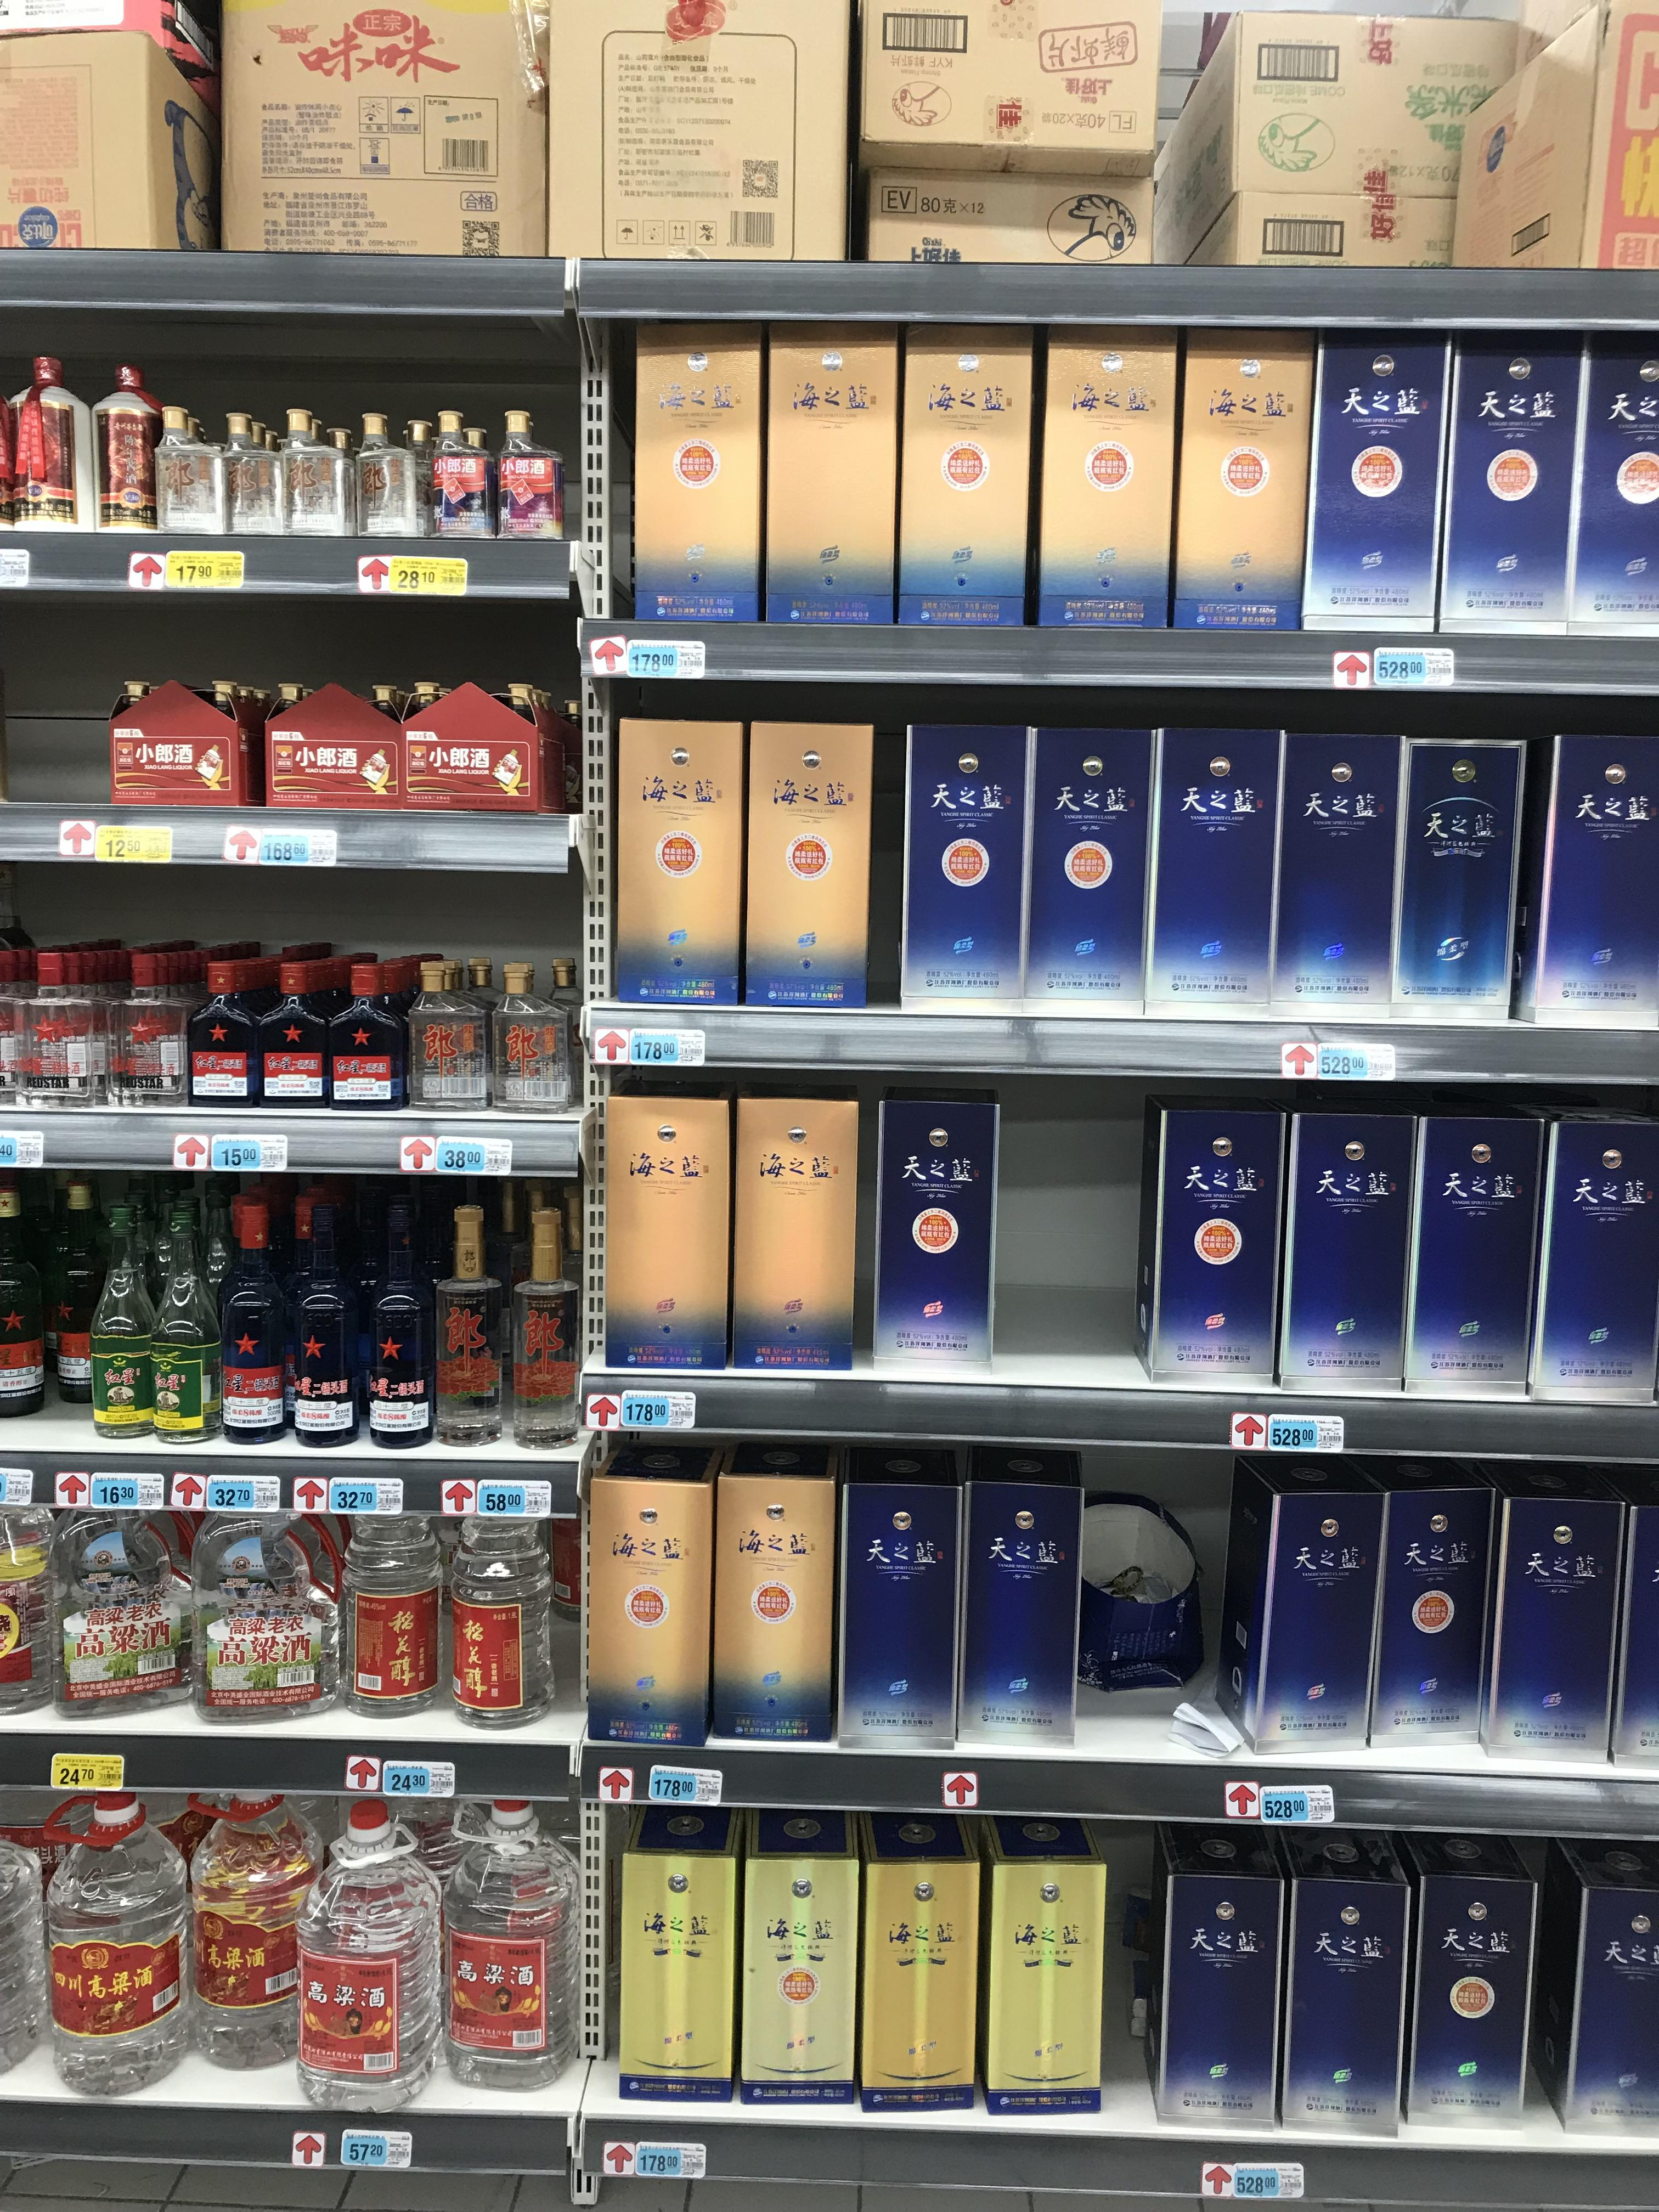bag: (1304, 327, 1446, 629), (894, 712, 1028, 1010), (1565, 331, 1657, 624), (403, 681, 561, 815)
bottle: (1394, 1829, 1558, 2127), (1229, 1447, 1377, 1749), (300, 1799, 439, 2113), (1492, 1456, 1628, 1770), (1364, 1439, 1495, 1752), (1277, 1825, 1412, 2130), (1281, 1090, 1417, 1388), (833, 1428, 958, 1745), (444, 1796, 577, 2095), (711, 1421, 835, 1742), (1150, 1829, 1283, 2127), (981, 1815, 1108, 2118), (960, 1423, 1084, 1733), (613, 1803, 739, 2097), (861, 1810, 979, 2113), (1546, 1834, 1657, 2127), (1068, 1486, 1208, 1710), (329, 1514, 448, 1716), (82, 1181, 173, 1439), (443, 1514, 551, 1728), (146, 1188, 232, 1447), (286, 1190, 366, 1453), (213, 1195, 293, 1451), (361, 1188, 436, 1453), (427, 1209, 502, 1449), (44, 1177, 120, 1409), (509, 1211, 580, 1451), (106, 951, 195, 1104), (16, 352, 87, 533), (192, 956, 275, 1108), (410, 961, 488, 1116), (94, 371, 164, 535), (265, 954, 338, 1109), (495, 967, 572, 1111), (31, 961, 108, 1104), (331, 960, 403, 1113), (497, 413, 561, 547), (430, 415, 488, 540), (350, 416, 410, 533), (373, 416, 425, 533)
box: (533, 26, 847, 263), (0, 0, 223, 265), (1030, 314, 1175, 634), (1169, 324, 1316, 629), (896, 310, 1033, 627), (1030, 718, 1171, 1021), (1438, 326, 1574, 637), (1140, 1089, 1276, 1397), (1523, 1099, 1659, 1406), (739, 712, 875, 1015), (608, 704, 737, 1021), (762, 317, 894, 625), (870, 1085, 1012, 1369), (1150, 719, 1288, 1014), (1401, 1092, 1534, 1395), (634, 317, 760, 632), (728, 1804, 859, 2102), (1396, 726, 1527, 1022), (599, 1083, 728, 1376), (1535, 730, 1659, 1031), (594, 1437, 713, 1750), (730, 1089, 857, 1371), (1286, 721, 1398, 1015), (261, 674, 410, 820), (110, 678, 242, 801)
bucket: (38, 1789, 195, 2097), (183, 1784, 322, 2067), (190, 1510, 338, 1724), (49, 1510, 185, 1716)
jar: (277, 415, 343, 535), (157, 415, 218, 535), (218, 415, 272, 533)
others: (1168, 10, 1572, 280), (213, 2, 570, 263), (843, 0, 1209, 188), (852, 89, 1213, 266), (1455, 40, 1654, 273)
